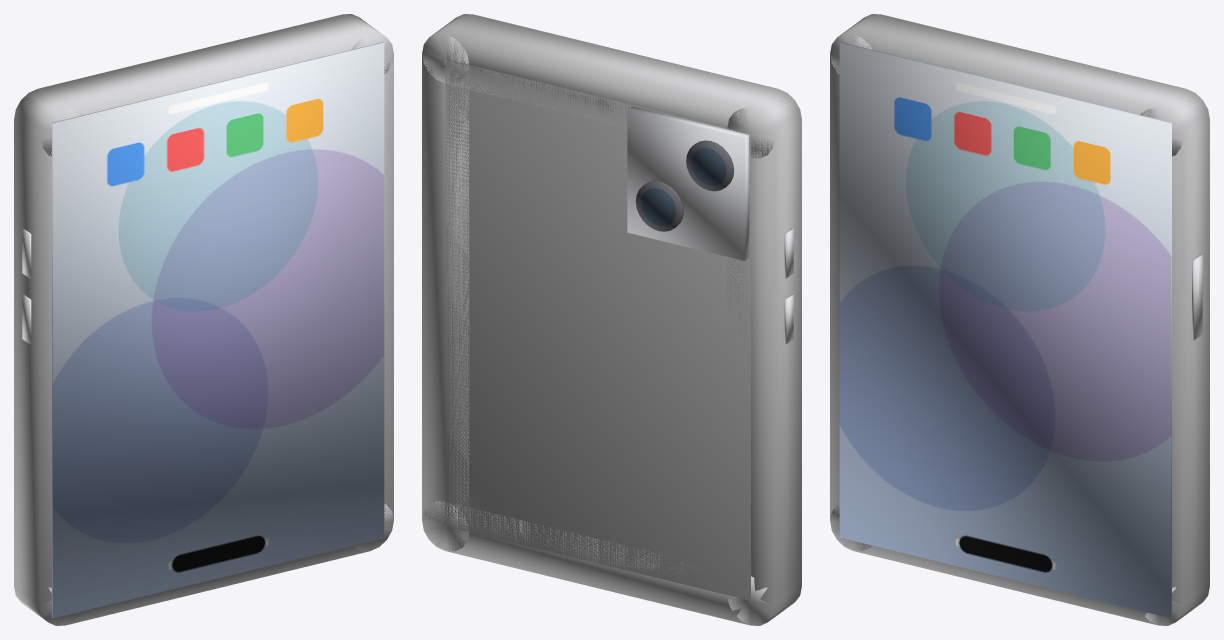
File: iphone-duo-closed-star-white.glb
The picture shows the model from 3 angles, left to right: view 1: azimuth 30°, elevation 25°; view 2: azimuth 150°, elevation 25°; view 3: azimuth 330°, elevation 25°; orthographic projection.
Visible parts, largest first — view 1: iPhoneDuo; view 2: iPhoneDuo; view 3: iPhoneDuo.
Part boxes in pixels (x1,y1,x2,y2): iPhoneDuo: (14,14,393,625); iPhoneDuo: (422,14,801,625); iPhoneDuo: (830,14,1209,625).
Size of the model in its own units: 0.0851 by 0.1178 by 0.0146.
Materials: 6 (1 with a texture image).
